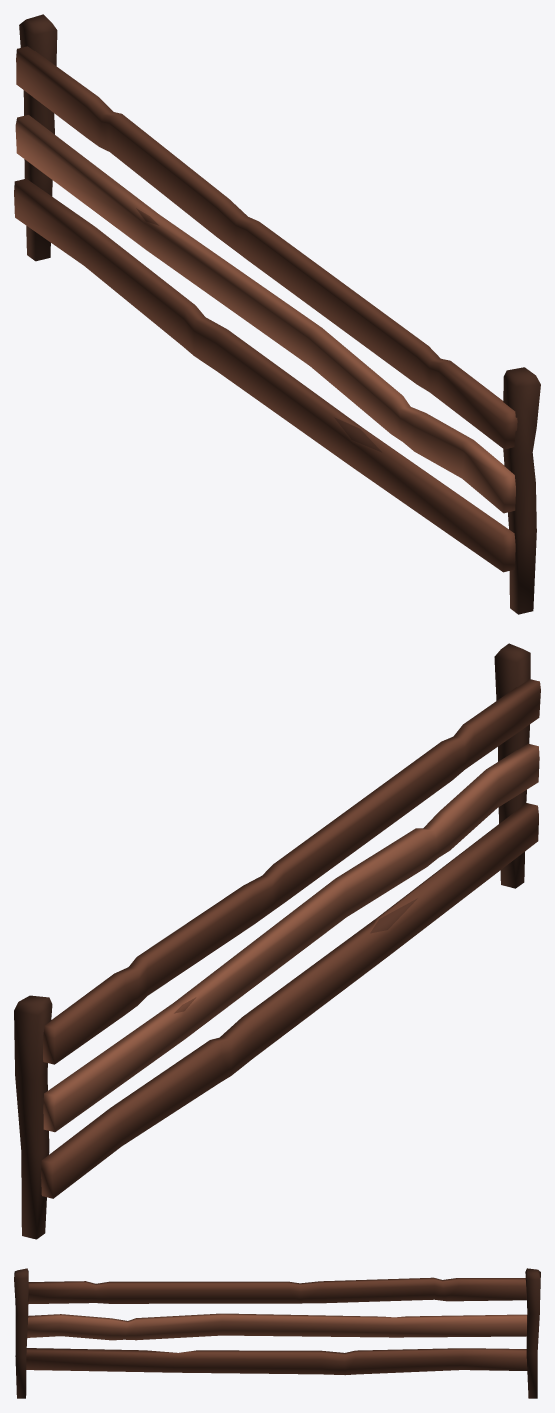
The model's file is FenceWoodLarge_01.glb.
3 views of the same model, one above another, from view 1: azimuth 30°, elevation 25°; view 2: azimuth 150°, elevation 25°; view 3: azimuth 270°, elevation 25° (orthographic). The views are drawn at different scales.
Parts seen in each view (by area): view 1: FenceWoodLarge_01; view 2: FenceWoodLarge_01; view 3: FenceWoodLarge_01.
Part boxes in pixels (box(x1,y1,x2,y2)): FenceWoodLarge_01: box(14, 14, 540, 614); FenceWoodLarge_01: box(14, 643, 540, 1239); FenceWoodLarge_01: box(14, 1268, 540, 1398).
Size of what is drawn, in the model's own units: 0.1968 by 1.25 by 4.76.
Materials: 1 (1 with a texture image).
